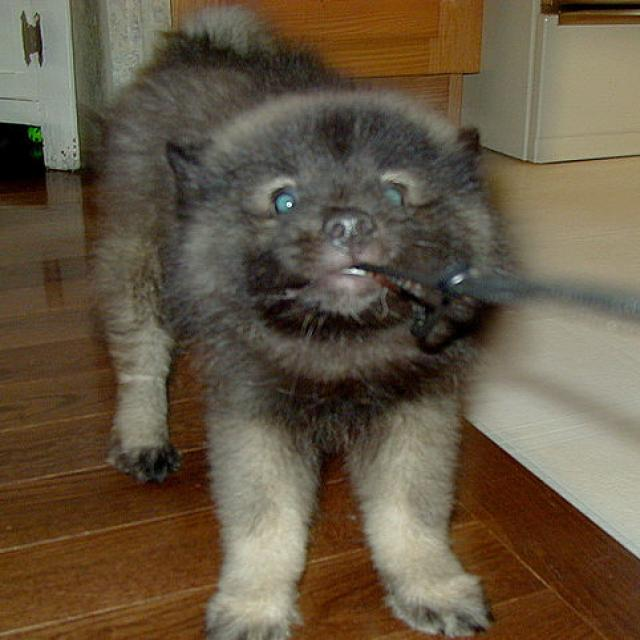dog-keeshond: (78, 38, 509, 637)
